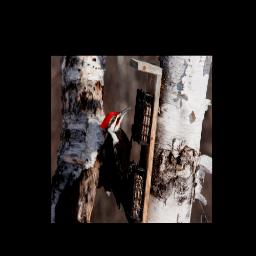Woodpecker: (98, 106, 138, 209)
